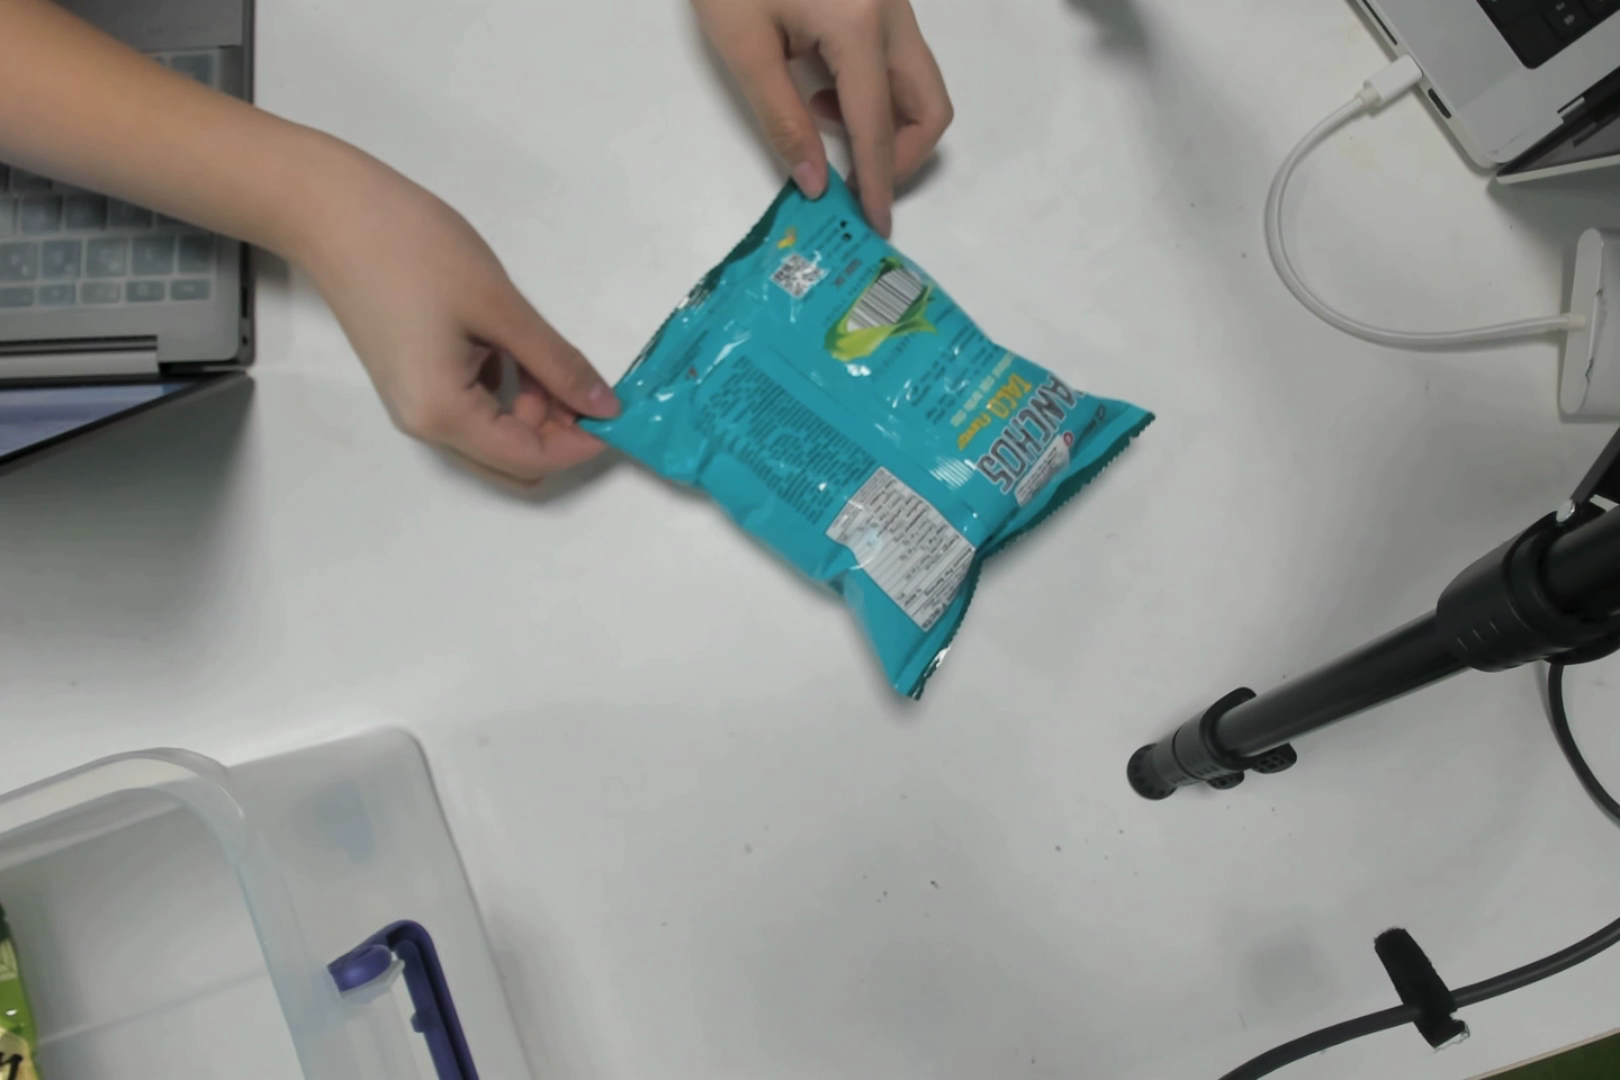PotatochipsKeropok_1-99g_NonHalal_NonHealthy: (692, 228, 1100, 692)
